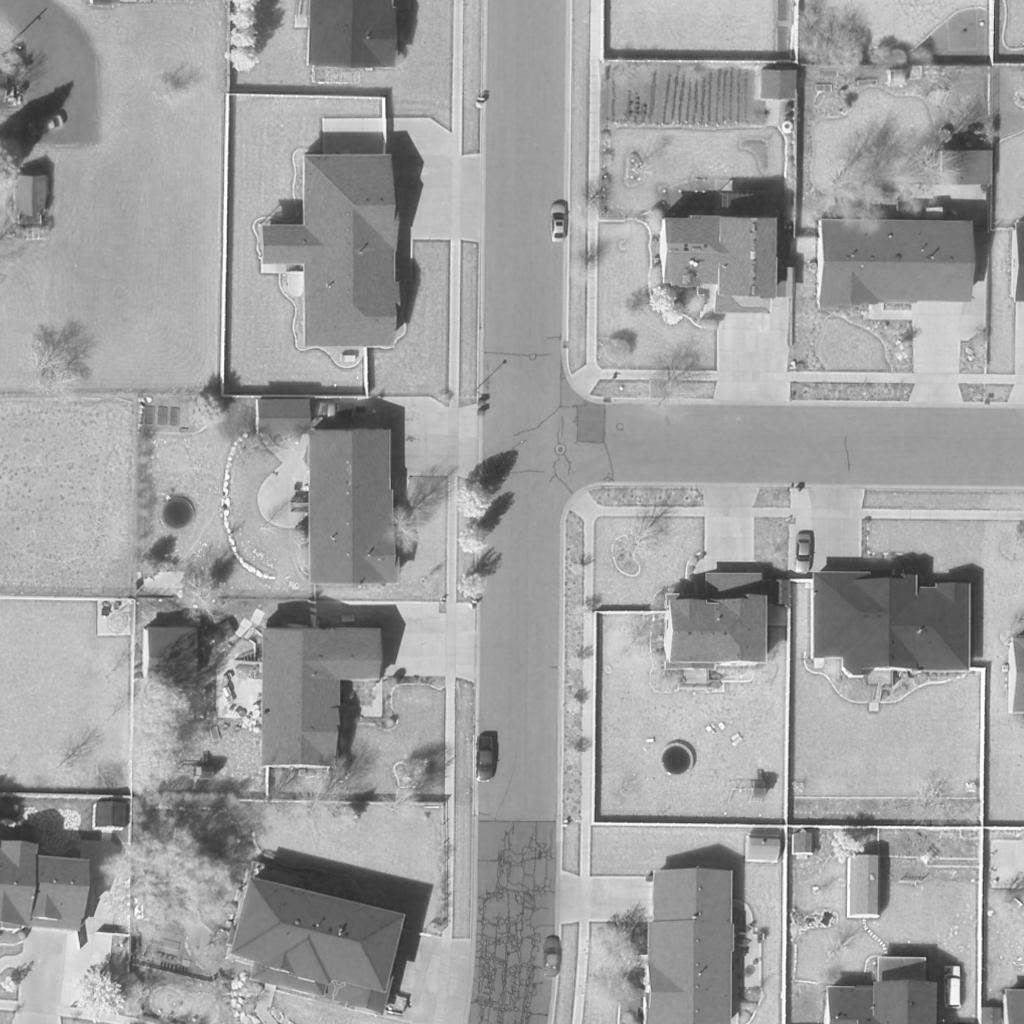vehicle: (942, 963, 964, 1013), (793, 531, 817, 575), (25, 112, 65, 138), (549, 199, 571, 245), (475, 734, 495, 784), (542, 936, 564, 978), (312, 401, 356, 419)
